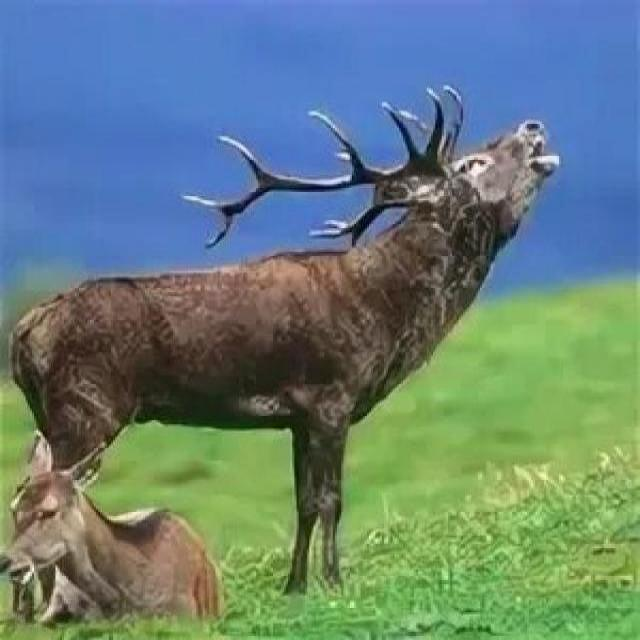deer: (0, 58, 552, 485)
